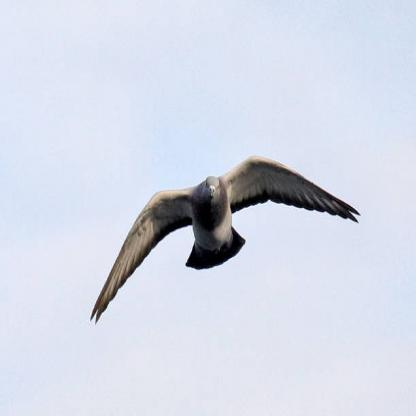Flying Rat: (88, 159, 367, 317)
